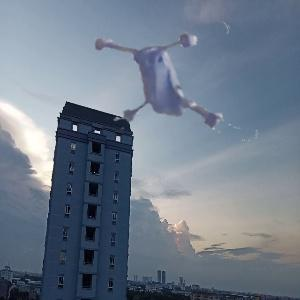drone: (101, 5, 264, 168)
